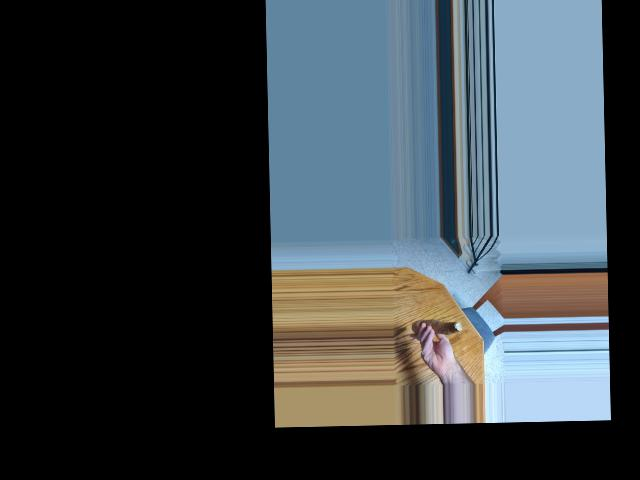sweet_potato: (415, 314, 456, 334)
